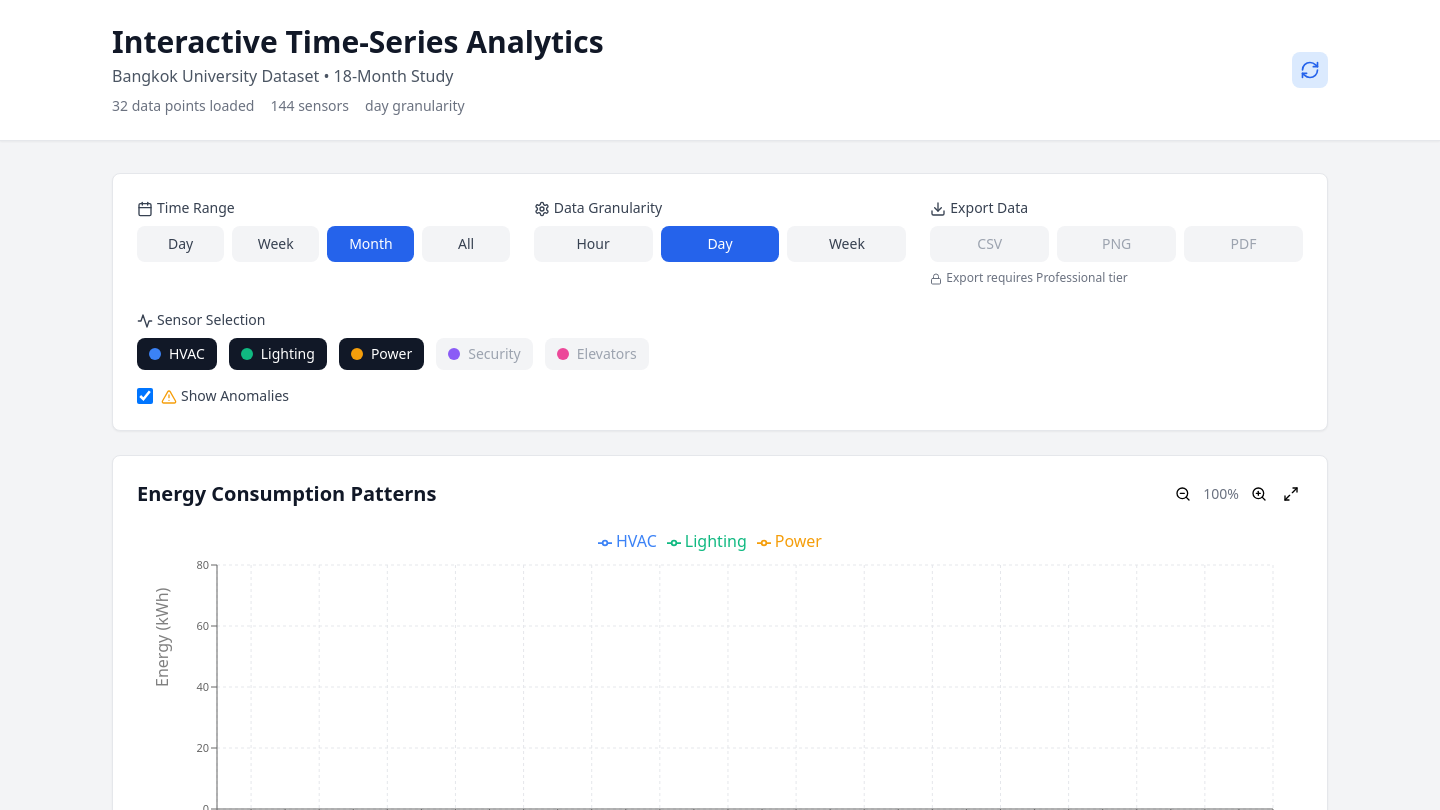
Test case: InteractiveTimeSeriesAnalytics Page › Chart Rendering and Interactions › zoom functionality works correctly
Expected: the text "100%" is shown, [1203,484,1239,504]
#  Zoom in
What coordinates should you click on to do the following:
click the button titled "Zoom In"
I would click on:
 (1259, 494)
Its box is [1247,482,1271,506].
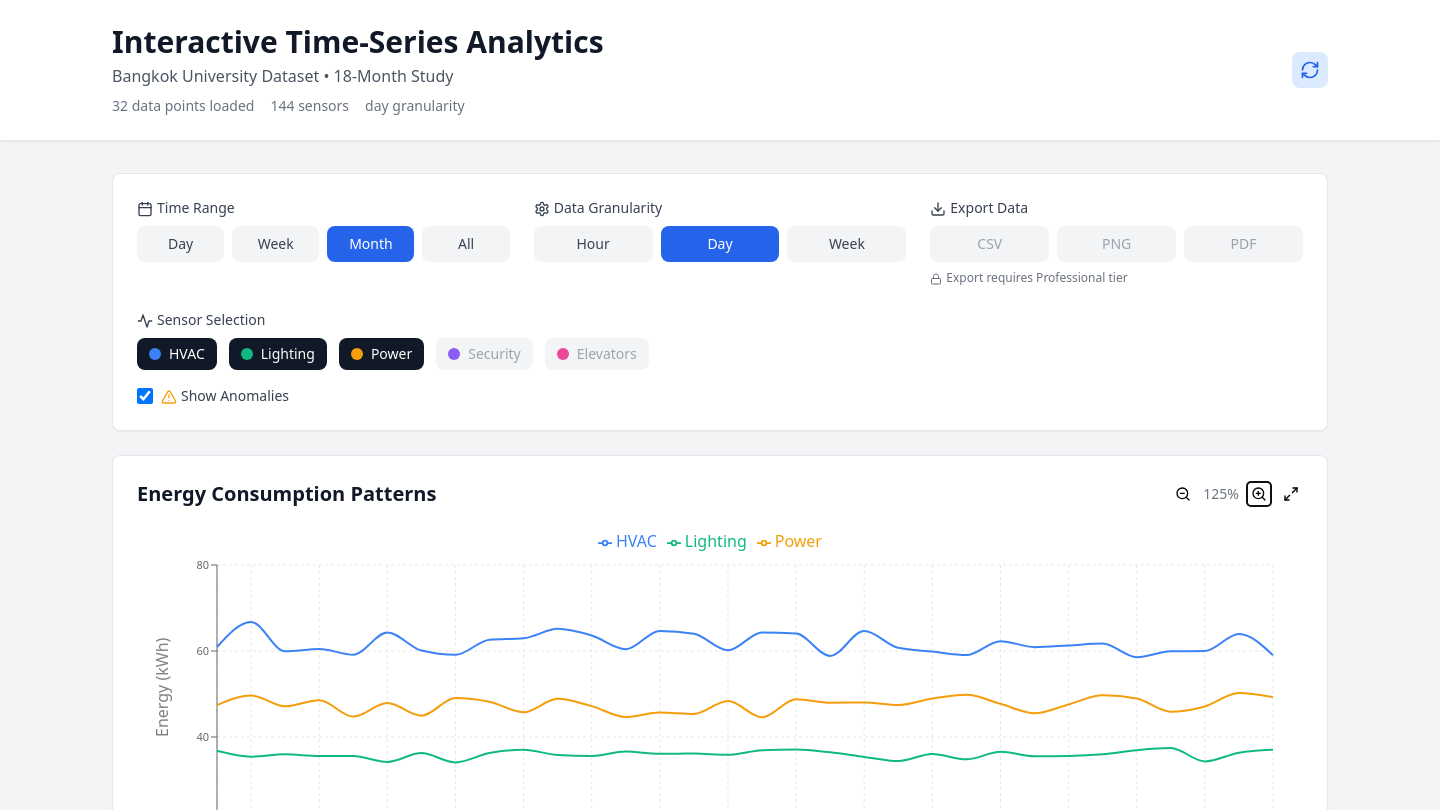
Expected: the text "125%" is shown, [1203,484,1239,504]
# Zoom out
What coordinates should you click on to do the following:
click the button titled "Zoom Out"
I would click on:
 (1183, 494)
Its box is [1171,482,1195,506].
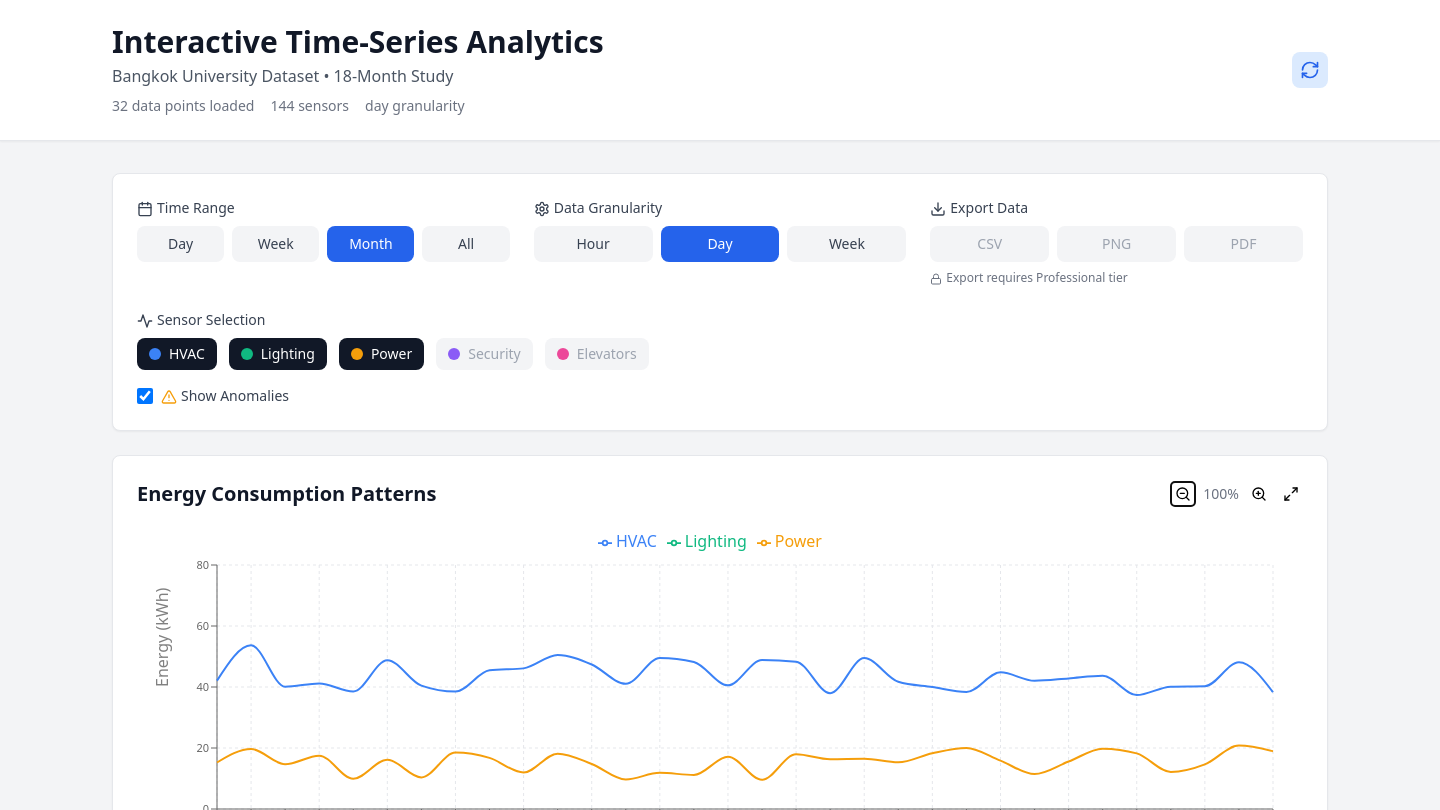
Expected: the text "100%" is shown, [1203,484,1239,504]
# Reset zoom
What coordinates should you click on to do the following:
click the button titled "Zoom In"
I would click on:
 (1259, 494)
Its box is [1247,482,1271,506].
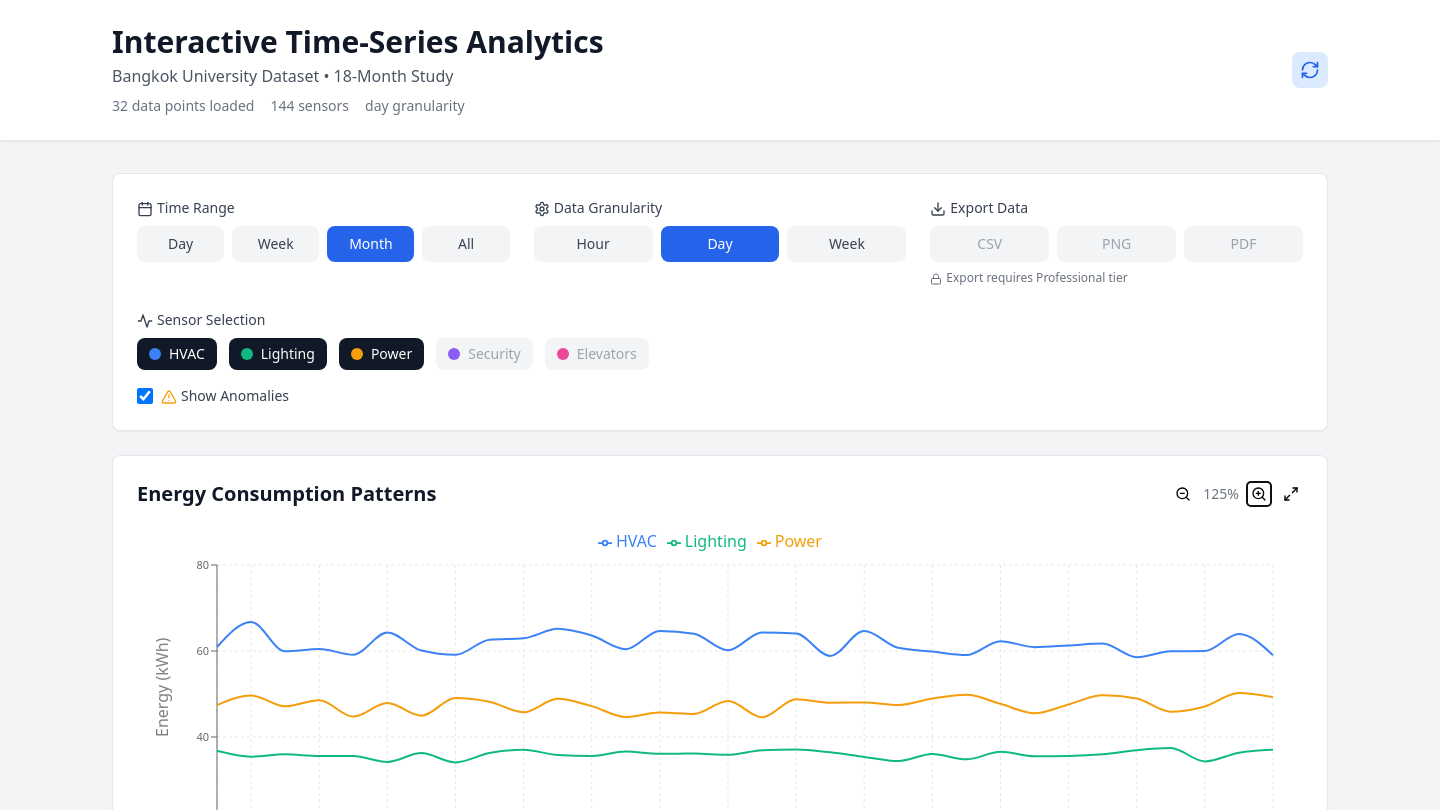
What coordinates should you click on to do the following:
click the button titled "Reset Zoom"
I would click on:
 (1291, 494)
Its box is [1279,482,1303,506].
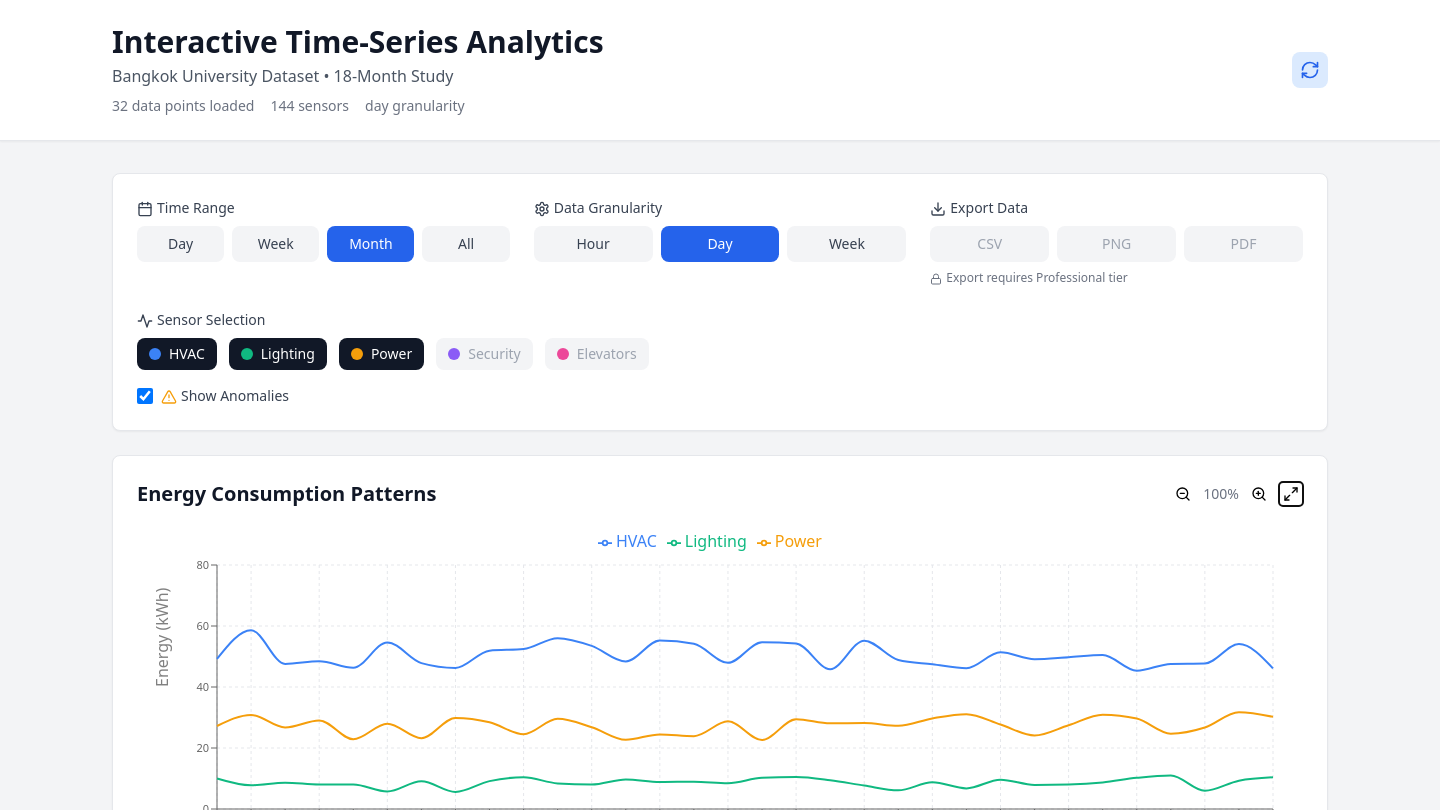
Expected: the text "100%" is shown, [1203,484,1239,504]
